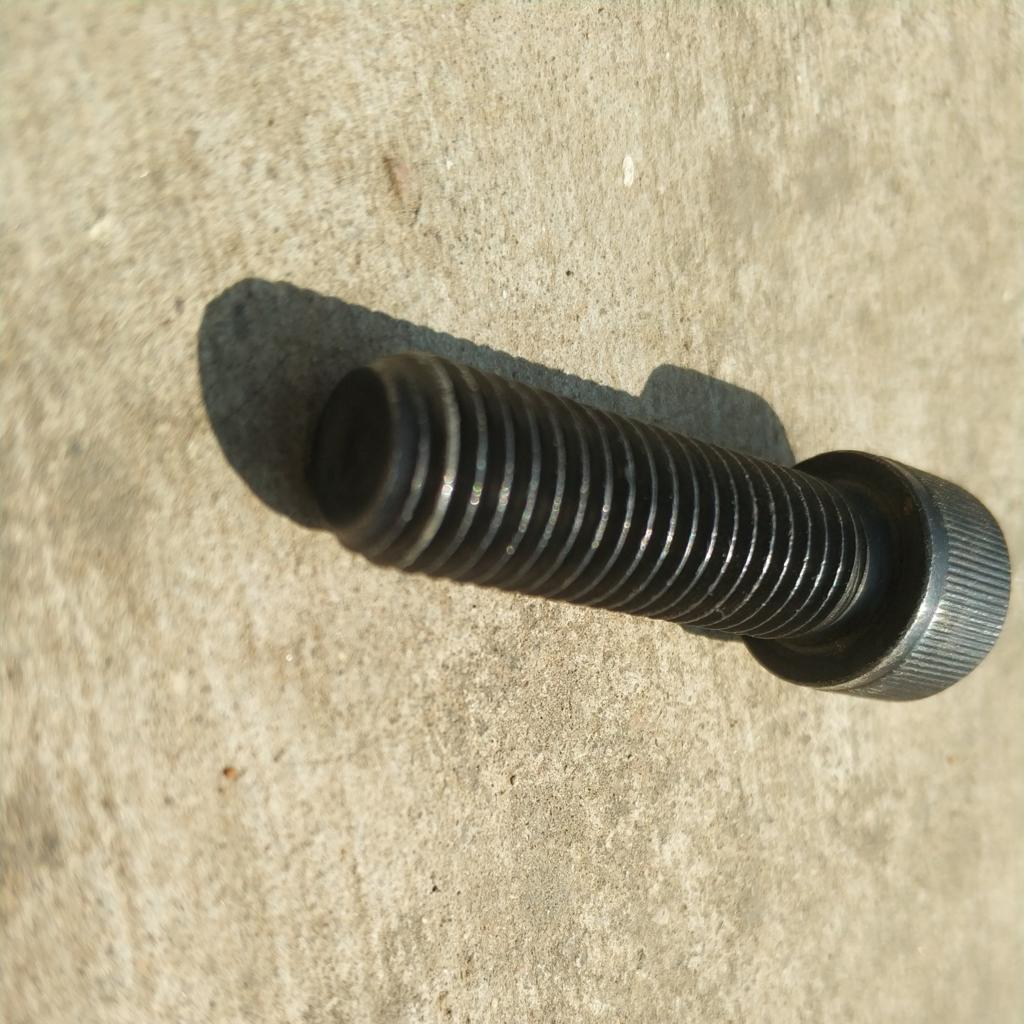screwtype1black: (304, 341, 1014, 730)
